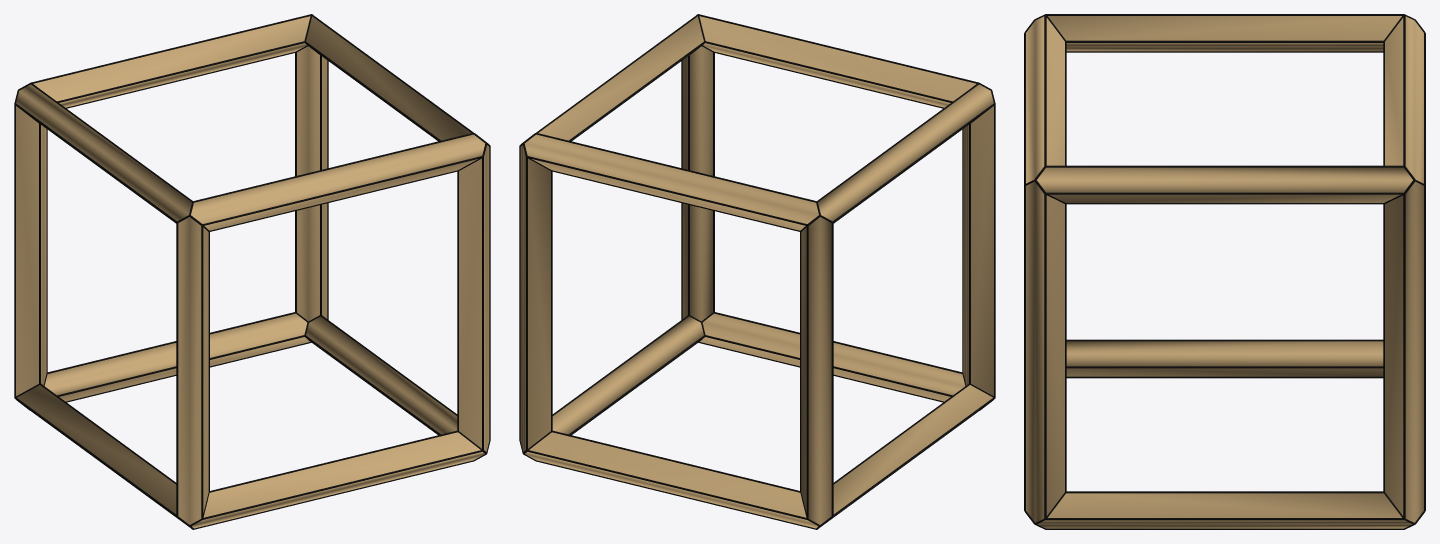
3 renders of one model, left to right at view 1: azimuth 30°, elevation 25°; view 2: azimuth 150°, elevation 25°; view 3: azimuth 270°, elevation 25°, orthographic. The views are drawn at different scales.
Parts seen in each view (by area): view 1: arete-Z0, arete-X2, arete-X0, arete-Z1, arete-X3, arete-Z2, arete-X1, arete-Z3, arete-Y2, arete-Y0, arete-Y3, arete-Y1 (+12 smaller); view 2: arete-Z2, arete-X3, arete-X1, arete-Z3, arete-X2, arete-Z0, arete-X0, arete-Z1, arete-Y2, arete-Y0, arete-Y3, arete-Y1 (+12 smaller); view 3: arete-Y3, arete-Z1, arete-Z3, arete-Y1, arete-Y2, arete-Y0, arete-X2, arete-X3, arete-wire-Y1, arete-wire-Y3, arete-wire-Y0, arete-wire-Y2 (+4 smaller).
Part boxes in pixels (x1,y1,x2,y2): arete-Z0: (178, 217, 208, 524); arete-X2: (191, 134, 485, 230); arete-X0: (191, 432, 484, 528); arete-Z1: (459, 145, 489, 451); arete-X3: (33, 16, 310, 107); arete-Z2: (16, 106, 46, 395); arete-X1: (44, 313, 309, 401); arete-Z3: (297, 46, 327, 321); arete-Y2: (16, 84, 191, 221); arete-Y0: (17, 385, 176, 513); arete-Y3: (306, 16, 471, 140); arete-Y1: (306, 316, 457, 434); arete-Z2: (801, 217, 831, 524); arete-X3: (524, 134, 818, 230); arete-X1: (525, 432, 818, 528); arete-Z3: (520, 145, 550, 451); arete-X2: (699, 16, 976, 107); arete-Z0: (963, 106, 993, 395); arete-X0: (700, 313, 965, 401); arete-Z1: (682, 46, 712, 321); arete-Y2: (818, 84, 993, 221); arete-Y0: (833, 385, 992, 513); arete-Y3: (538, 16, 703, 140); arete-Y1: (552, 316, 703, 434); arete-Y3: (1037, 167, 1412, 202); arete-Z1: (1026, 181, 1064, 522); arete-Z3: (1385, 181, 1423, 522); arete-Y1: (1037, 493, 1412, 528); arete-Y2: (1048, 16, 1401, 51); arete-Y0: (1066, 341, 1383, 376); arete-X2: (1026, 16, 1064, 183); arete-X3: (1385, 16, 1423, 183); arete-wire-Y1: (1035, 491, 1414, 529); arete-wire-Y3: (1045, 165, 1414, 204); arete-wire-Y0: (1066, 339, 1383, 378); arete-wire-Y2: (1045, 14, 1415, 52).
Bounding box in the file's own units: 0.4238 × 0.4238 × 0.4238.
